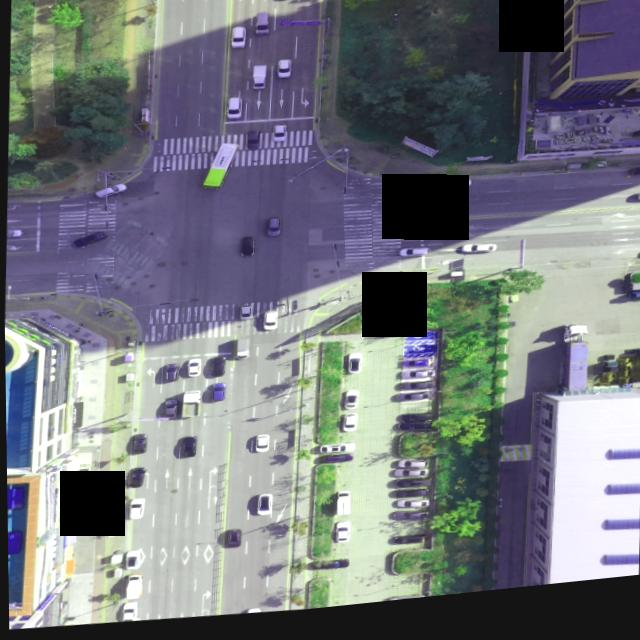car: (68, 229, 109, 250), (385, 514, 432, 531), (454, 250, 496, 265), (390, 483, 434, 497), (384, 539, 425, 554), (394, 375, 436, 389), (329, 526, 352, 551), (393, 387, 436, 400), (176, 437, 198, 462), (125, 433, 147, 458), (390, 474, 429, 488), (308, 562, 344, 577), (393, 464, 431, 478), (395, 426, 433, 440), (95, 183, 128, 199), (387, 505, 427, 518), (314, 447, 351, 461), (116, 601, 137, 625), (391, 398, 433, 410), (121, 549, 142, 572), (378, 599, 421, 610), (424, 230, 460, 243), (388, 495, 427, 507), (395, 419, 434, 431), (337, 417, 357, 440), (225, 101, 243, 126), (319, 457, 351, 471), (438, 184, 472, 197), (237, 240, 256, 263), (343, 359, 362, 382), (125, 499, 143, 523), (254, 17, 271, 42), (162, 398, 179, 423), (397, 252, 427, 266), (125, 468, 144, 490), (260, 314, 279, 336), (230, 30, 247, 53), (267, 220, 284, 242), (208, 359, 225, 380), (398, 365, 430, 376), (209, 385, 226, 405), (278, 64, 294, 84), (238, 308, 255, 326), (184, 362, 200, 381), (163, 365, 178, 385), (226, 534, 242, 552), (258, 499, 273, 518), (254, 439, 268, 456), (6, 226, 24, 238), (625, 202, 640, 216), (625, 177, 640, 190), (344, 399, 357, 414), (280, 0, 296, 3)
large_bus: (198, 144, 239, 196)
large_truck: (557, 331, 592, 407)
small_truck: (120, 573, 144, 603), (327, 494, 350, 523), (179, 394, 199, 422), (231, 339, 250, 364), (251, 69, 269, 95)
